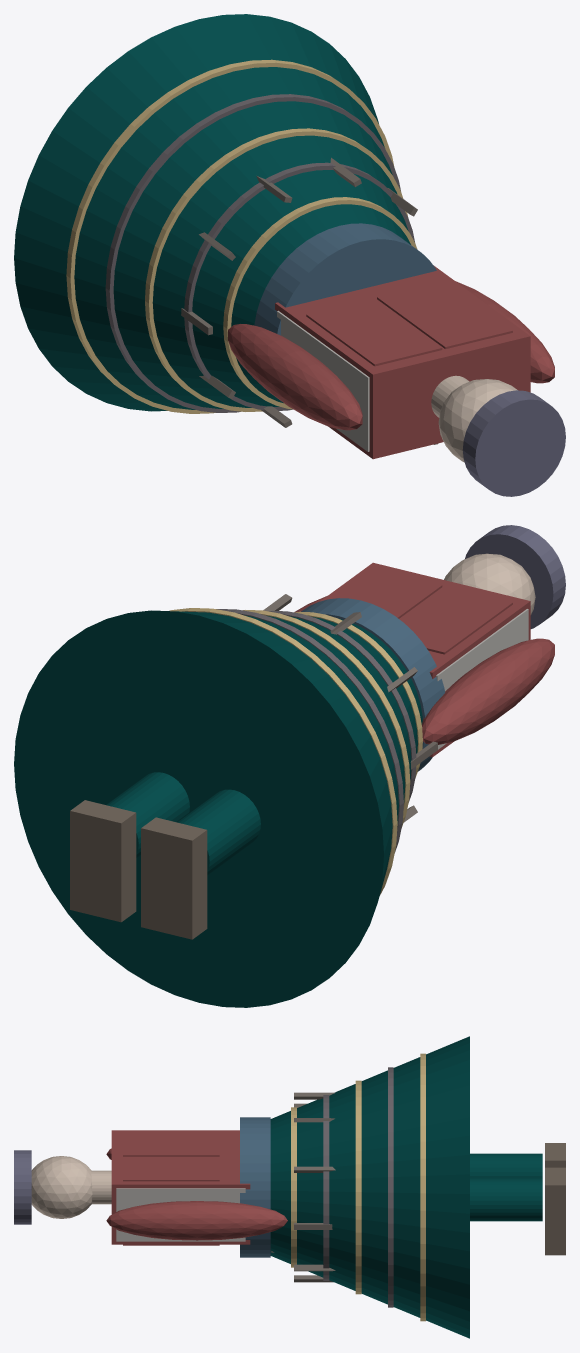
File: MASTER_082_STAGE3_DETAIL.glb
The picture shows the model from 3 angles, top to bottom: view 1: azimuth 30°, elevation 25°; view 2: azimuth 150°, elevation 25°; view 3: azimuth 270°, elevation 25°; orthographic projection. The views are drawn at different scales.
Visible parts, largest first — view 1: slot_lower_main__xhubletë, slot_upper_inner__këmishë, slot_waist__brez, slot_headwear__mbulesë_koke, slot_upper_inner_sleeve_L, slot_trim__xhubleta_band_1, slot_upper_outer__jelek_L, slot_upper_outer__jelek_R, slot_trim__xhubleta_band_2, slot_trim__xhubleta_band_3, slot_trim__xhubleta_band_4, mannequin_torso (+4 smaller); view 2: slot_lower_main__xhubletë, slot_footwear__opinga_R, slot_footwear__opinga_L, slot_upper_inner_sleeve_L, slot_waist__brez, slot_headwear__mbulesë_koke, slot_upper_outer__jelek_L, slot_legwear__çorape_L, slot_upper_inner__këmishë, slot_legwear__çorape_R, mannequin_head, slot_upper_outer__jelek_R (+6 smaller); view 3: slot_lower_main__xhubletë, slot_upper_inner_sleeve_R, slot_upper_inner__këmishë, slot_waist__brez, mannequin_head, slot_legwear__çorape_R, slot_upper_outer__jelek_R, mannequin_torso, slot_upper_outer__jelek_L, slot_legwear__çorape_L, slot_footwear__opinga_R, slot_trim__xhubleta_band_1 (+7 smaller).
Boxes of the visible parts, left/top/right/bottom form: slot_lower_main__xhubletë: left=14, top=14, right=410, bottom=411; slot_upper_inner__këmishë: left=275, top=265, right=530, bottom=459; slot_waist__brez: left=254, top=223, right=436, bottom=335; slot_headwear__mbulesë_koke: left=462, top=390, right=565, bottom=496; slot_upper_inner_sleeve_L: left=228, top=324, right=362, bottom=430; slot_trim__xhubleta_band_1: left=66, top=59, right=394, bottom=413; slot_upper_outer__jelek_L: left=306, top=298, right=442, bottom=366; slot_upper_outer__jelek_R: left=377, top=281, right=512, bottom=348; slot_trim__xhubleta_band_2: left=105, top=94, right=400, bottom=412; slot_trim__xhubleta_band_3: left=145, top=128, right=407, bottom=411; slot_trim__xhubleta_band_4: left=184, top=162, right=414, bottom=410; mannequin_torso: left=277, top=310, right=369, bottom=451; slot_lower_main__xhubletë: left=14, top=610, right=422, bottom=1007; slot_footwear__opinga_R: left=70, top=800, right=136, bottom=922; slot_footwear__opinga_L: left=141, top=817, right=207, bottom=939; slot_upper_inner_sleeve_L: left=422, top=638, right=554, bottom=744; slot_waist__brez: left=301, top=598, right=445, bottom=771; slot_headwear__mbulesë_koke: left=465, top=525, right=565, bottom=628; slot_upper_outer__jelek_L: left=400, top=586, right=512, bottom=654; slot_legwear__çorape_L: left=177, top=789, right=260, bottom=875; slot_upper_inner__këmishë: left=320, top=562, right=530, bottom=757; slot_legwear__çorape_R: left=106, top=772, right=189, bottom=857; mannequin_head: left=444, top=553, right=535, bottom=615; slot_upper_outer__jelek_R: left=334, top=569, right=442, bottom=618; slot_lower_main__xhubletë: left=270, top=1036, right=469, bottom=1338; slot_upper_inner_sleeve_R: left=106, top=1201, right=287, bottom=1240; slot_upper_inner__këmishë: left=111, top=1130, right=250, bottom=1244; slot_waist__brez: left=240, top=1117, right=270, bottom=1257; mannequin_head: left=31, top=1156, right=92, bottom=1218; slot_legwear__çorape_R: left=470, top=1178, right=542, bottom=1221; slot_upper_outer__jelek_R: left=123, top=1156, right=219, bottom=1245; mannequin_torso: left=116, top=1188, right=245, bottom=1241; slot_upper_outer__jelek_L: left=123, top=1132, right=219, bottom=1156; slot_legwear__çorape_L: left=470, top=1153, right=542, bottom=1178; slot_footwear__opinga_R: left=545, top=1167, right=565, bottom=1255; slot_trim__xhubleta_band_1: left=420, top=1053, right=425, bottom=1321.
Bounding box in the file's own units: 0.9383 × 0.9383 × 1.71.
